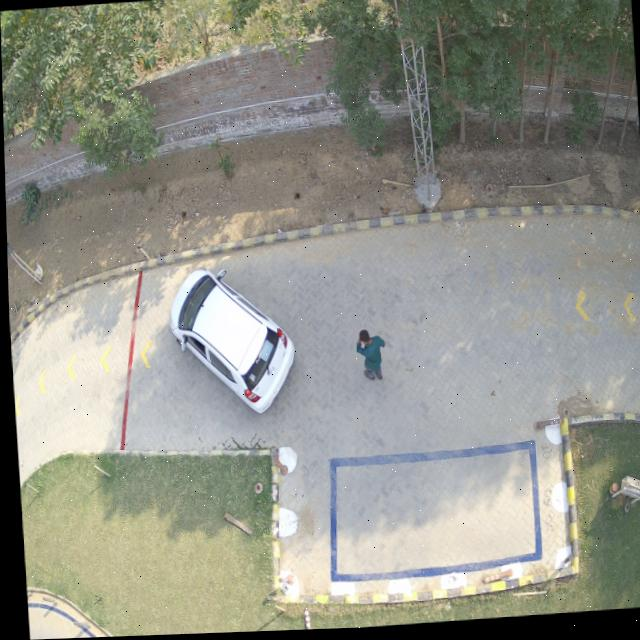car: (166, 270, 292, 415)
